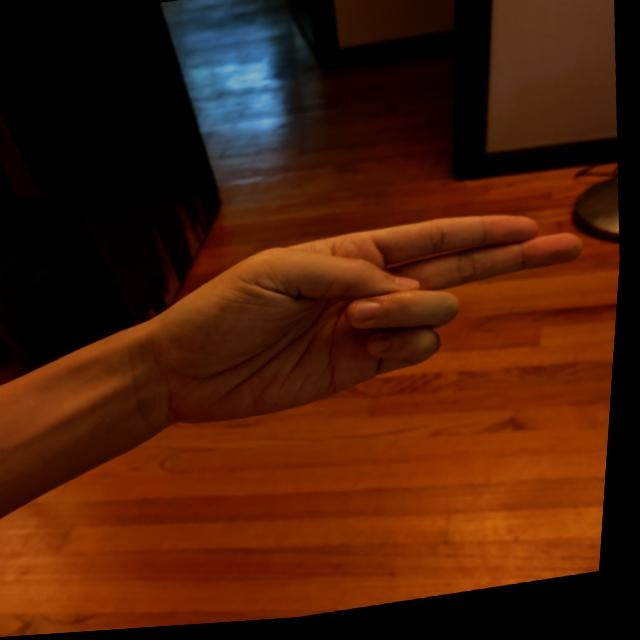H: (140, 194, 615, 442)
